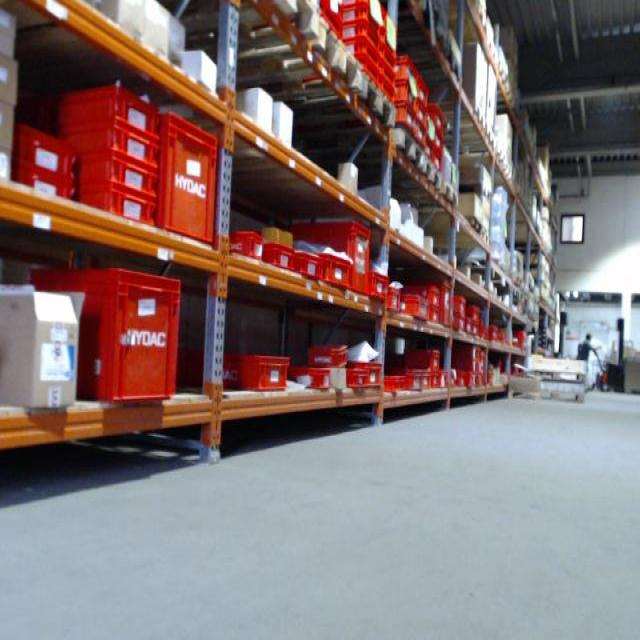pallet: (167, 16, 365, 100), (248, 65, 398, 138), (151, 1, 318, 50), (294, 128, 431, 178), (405, 216, 490, 247), (417, 158, 447, 195), (442, 185, 459, 211), (471, 103, 487, 130)
pallet_truck: (589, 312, 628, 394), (550, 310, 574, 359)
small_load_carrier: (29, 267, 178, 404), (153, 104, 223, 249), (48, 73, 162, 139), (288, 218, 373, 300), (47, 116, 163, 169), (66, 151, 159, 193), (69, 183, 160, 225), (12, 116, 72, 176), (9, 160, 72, 205), (222, 354, 289, 391), (214, 229, 262, 259), (339, 19, 380, 53), (337, 5, 380, 34), (290, 242, 322, 280), (322, 246, 348, 291), (290, 365, 335, 391), (397, 281, 441, 307), (404, 345, 442, 372), (386, 80, 417, 113), (342, 38, 380, 64), (302, 339, 349, 360), (392, 52, 420, 87), (398, 294, 429, 325), (264, 237, 294, 268), (354, 359, 381, 392), (353, 57, 376, 88), (440, 276, 452, 329), (383, 16, 400, 52), (397, 365, 418, 394), (370, 267, 386, 300), (394, 105, 414, 130), (457, 366, 476, 392), (433, 107, 447, 142), (387, 287, 404, 314), (344, 371, 365, 392), (383, 372, 404, 393), (382, 46, 401, 69), (416, 77, 429, 110), (452, 292, 469, 316), (432, 129, 447, 153), (378, 84, 395, 104), (415, 101, 428, 127), (450, 316, 468, 334), (416, 367, 430, 389), (382, 62, 396, 84), (423, 308, 441, 324), (432, 149, 443, 172), (414, 129, 424, 154), (430, 370, 443, 389)
